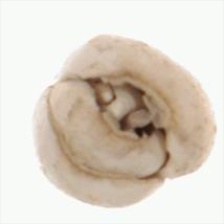L3: (49, 70, 172, 184)
L4: (33, 33, 216, 209)
